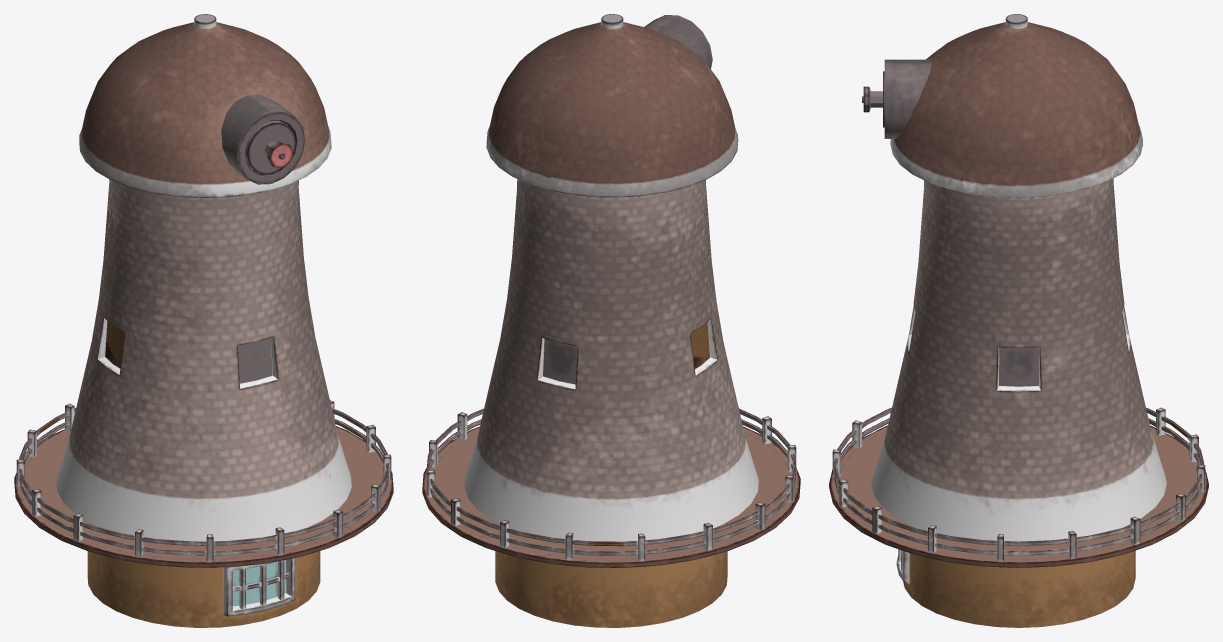
The model's file is Windmill.fbx.
The picture shows the model from 3 angles, left to right: view 1: azimuth 30°, elevation 25°; view 2: azimuth 150°, elevation 25°; view 3: azimuth 270°, elevation 25°; orthographic projection.
Visible parts, largest first — view 1: WindmillBody, WindmillPaddlesHolder; view 2: WindmillBody, WindmillPaddlesHolder; view 3: WindmillBody, WindmillPaddlesHolder.
Boxes of the visible parts, x1,y1,x2,y2 form: WindmillBody: [14, 14, 393, 627]; WindmillPaddlesHolder: [221, 95, 305, 184]; WindmillBody: [422, 14, 800, 627]; WindmillPaddlesHolder: [644, 15, 712, 68]; WindmillBody: [829, 14, 1208, 627]; WindmillPaddlesHolder: [862, 59, 931, 138].
Bounding box in the file's own units: 16.43 × 26.75 × 16.43.
